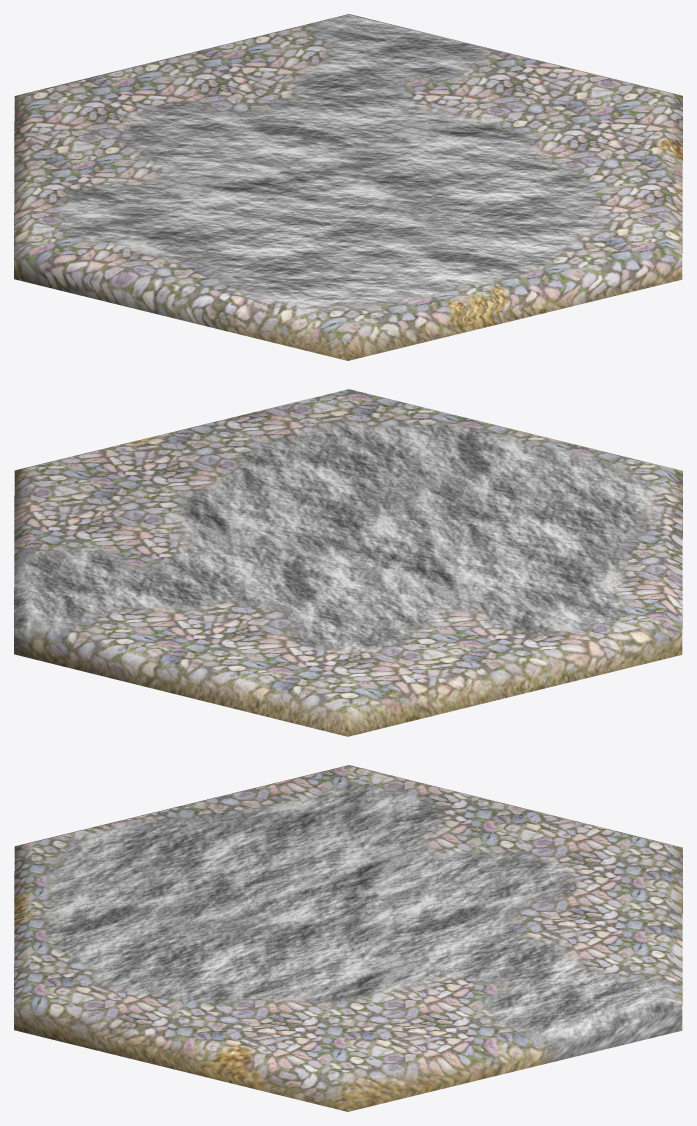
Rendered from redhexlow.fbx.
3 views of the same model, one above another, from view 1: azimuth 30°, elevation 25°; view 2: azimuth 150°, elevation 25°; view 3: azimuth 270°, elevation 25° (orthographic).
Visible parts, largest first — view 1: Hexa; view 2: Hexa; view 3: Hexa.
Boxes of the visible parts, x1,y1,x2,y2 form: Hexa: (14, 14, 682, 360); Hexa: (14, 389, 682, 736); Hexa: (14, 765, 682, 1111).
Size of the model in its own units: 961 by 39.88 by 833.
Materials: 1 (1 with a texture image).
